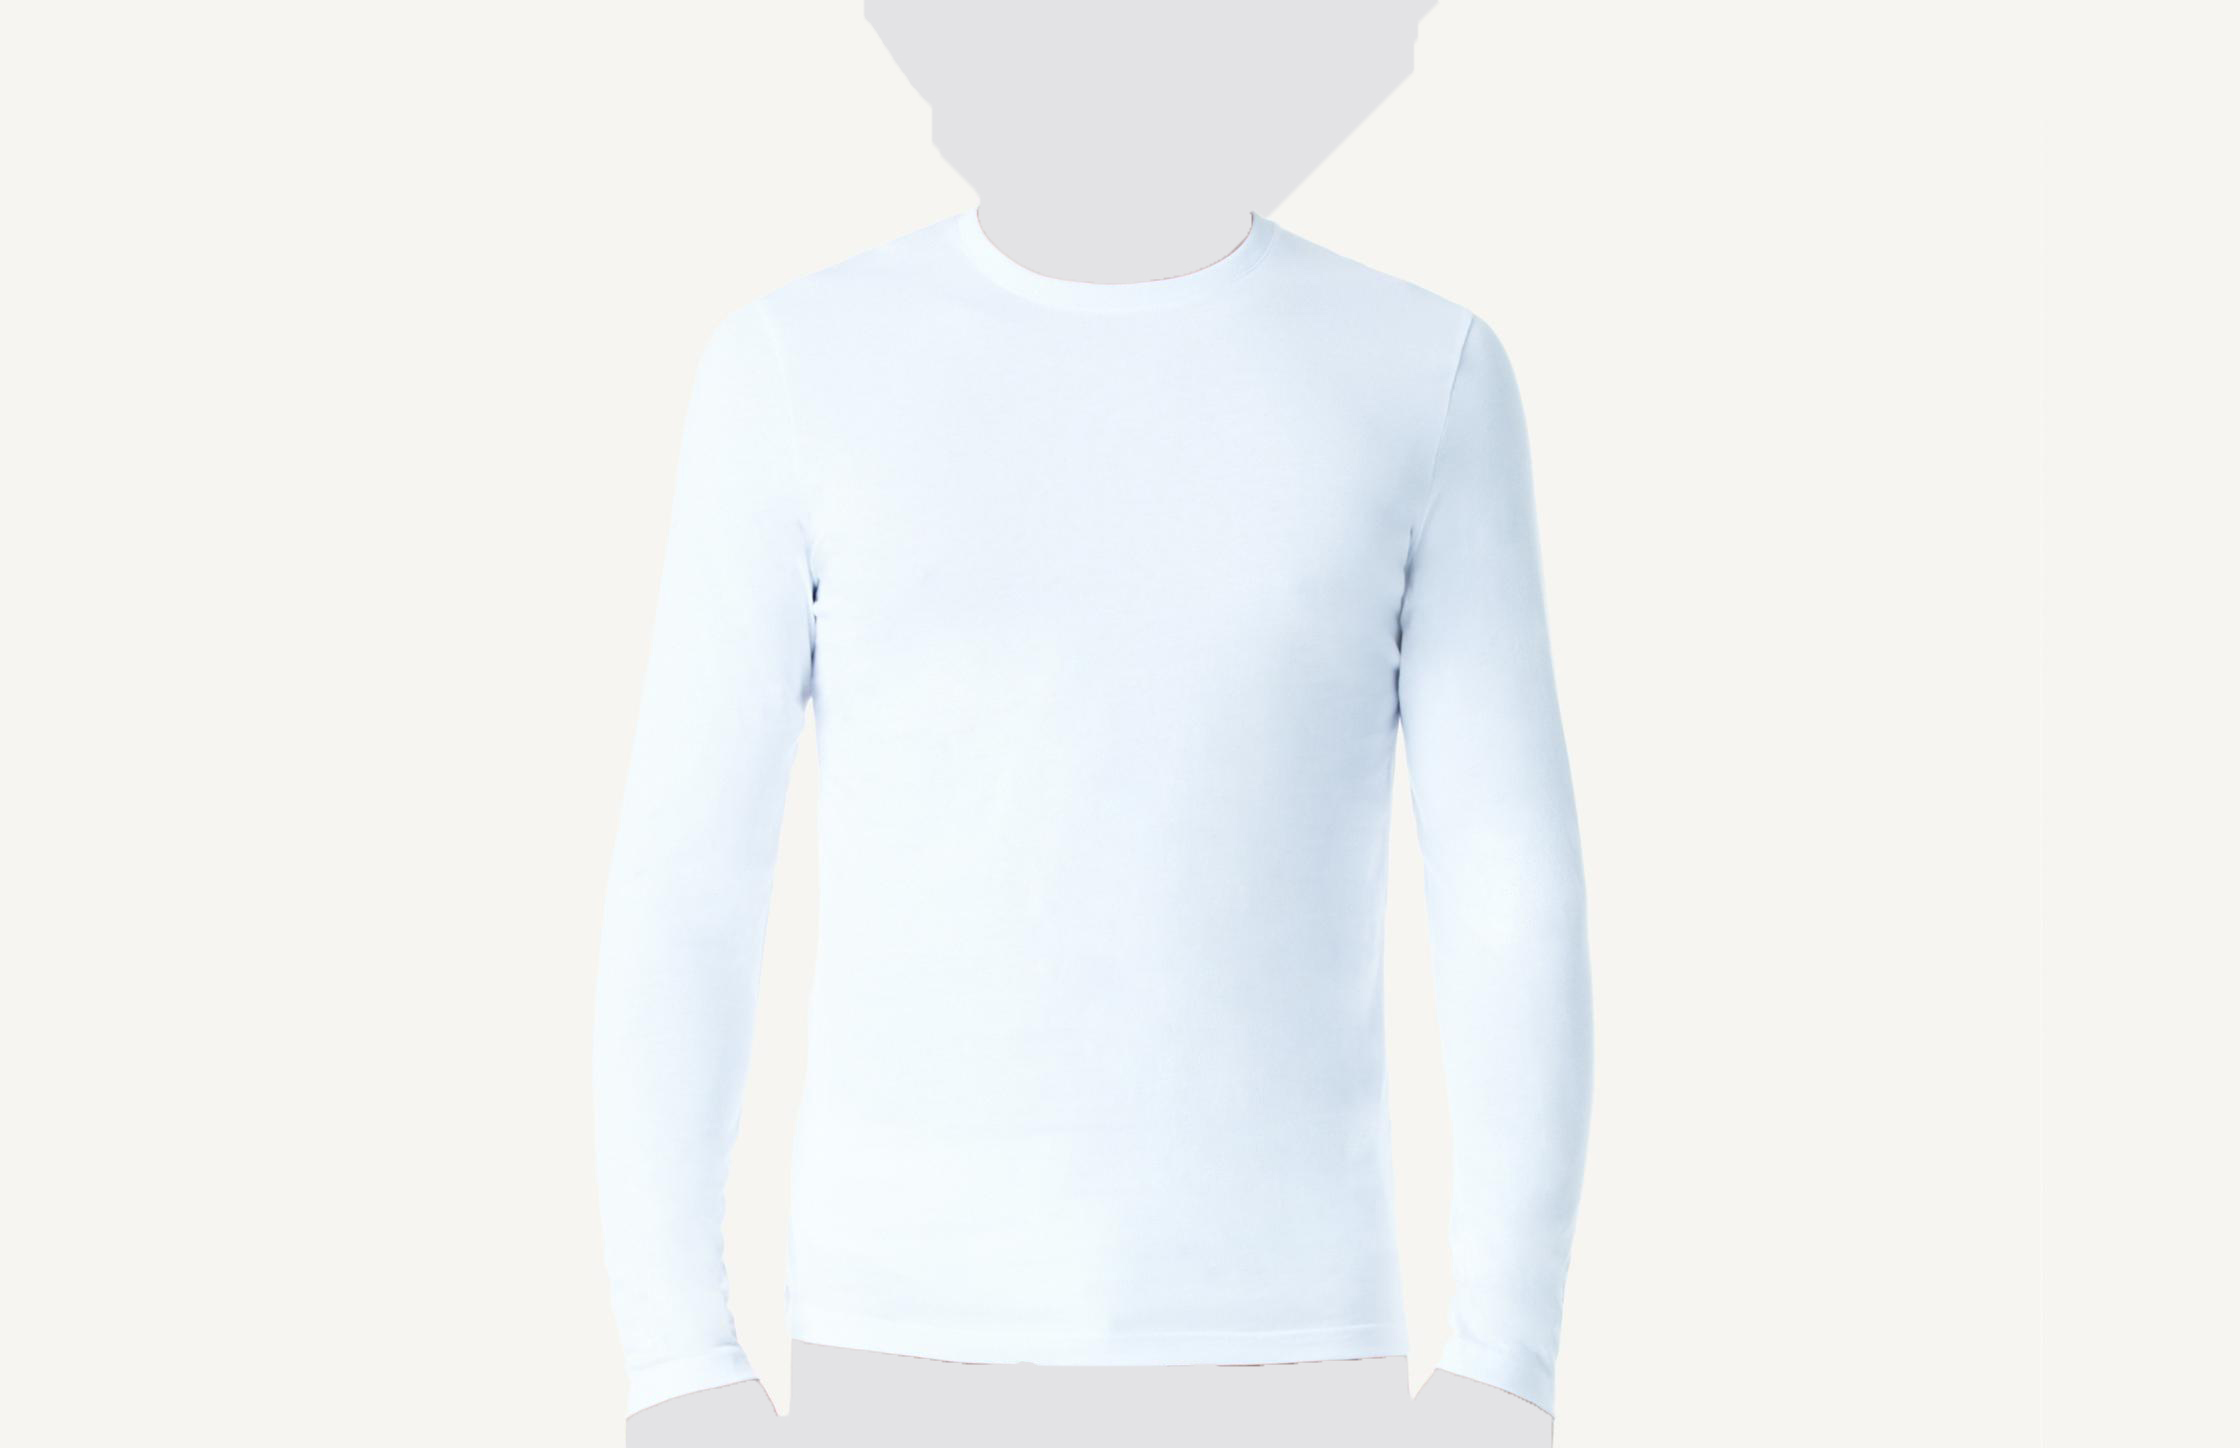teeshirt: (601, 207, 1600, 1410)
